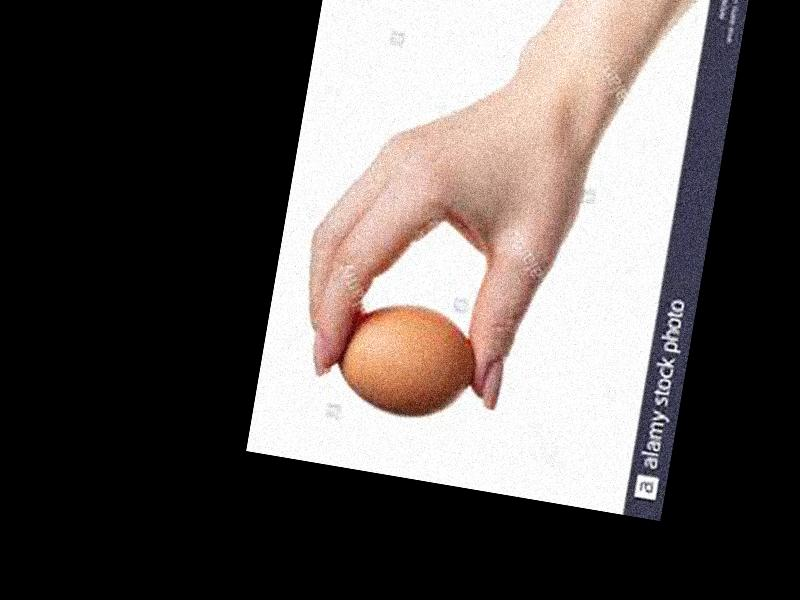Eggs: (332, 292, 480, 424)
